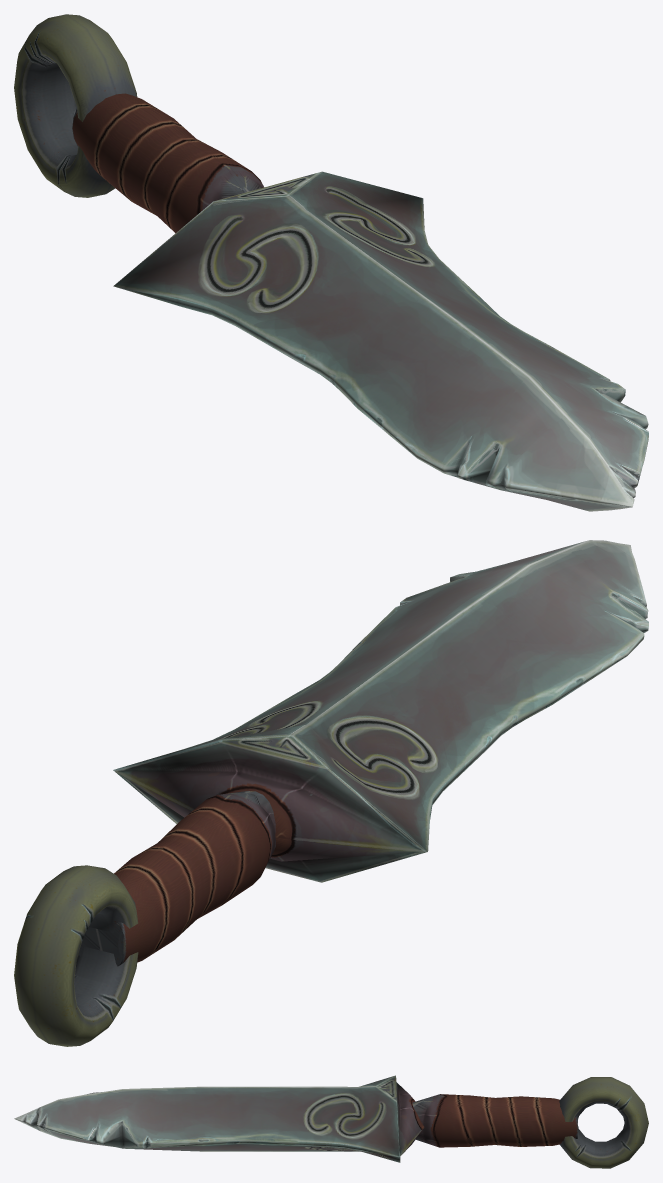
The model's file is faca001.glb.
3 renders of one model, top to bottom at view 1: azimuth 30°, elevation 25°; view 2: azimuth 150°, elevation 25°; view 3: azimuth 270°, elevation 25°, orthographic. The views are drawn at different scales.
Parts seen in each view (by area): view 1: pCube1, pTorus1, pCylinder1; view 2: pCube1, pCylinder1, pTorus1; view 3: pCube1, pCylinder1, pTorus1.
Part boxes in pixels (bbox=[...]): pCube1: bbox=[113, 171, 648, 511]; pTorus1: bbox=[14, 14, 137, 197]; pCylinder1: bbox=[72, 93, 264, 233]; pCube1: bbox=[113, 540, 648, 882]; pCylinder1: bbox=[78, 791, 275, 966]; pTorus1: bbox=[14, 865, 138, 1046]; pCube1: bbox=[14, 1075, 424, 1162]; pCylinder1: bbox=[412, 1094, 577, 1147]; pTorus1: bbox=[559, 1077, 648, 1168].
Bounding box in the file's own units: 0.1433 × 0.0737 × 0.4762.
Materials: 1 (1 with a texture image).
